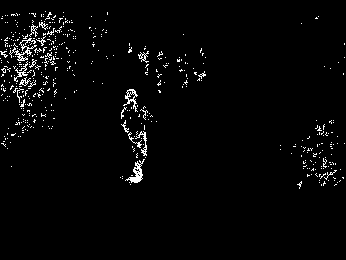person: (121, 86, 154, 183)
